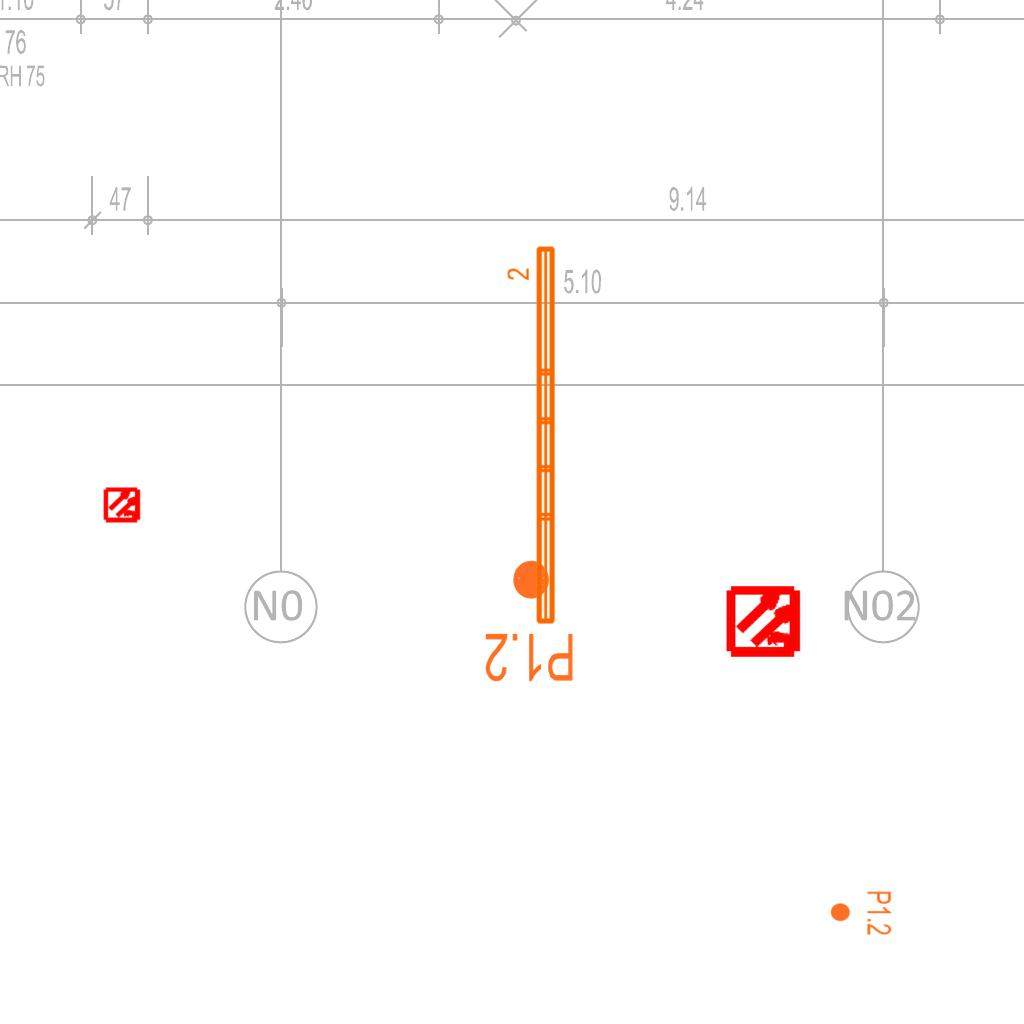Ambulanz_Pendelleuchte_LED: (505, 242, 561, 629)
Downlight_LED_Einbauleuchten_Flur: (483, 557, 576, 685), (829, 890, 893, 936)
OT_Multisensormelder_(Kombination_RMO_WMD): (709, 565, 822, 678), (95, 477, 151, 533)
